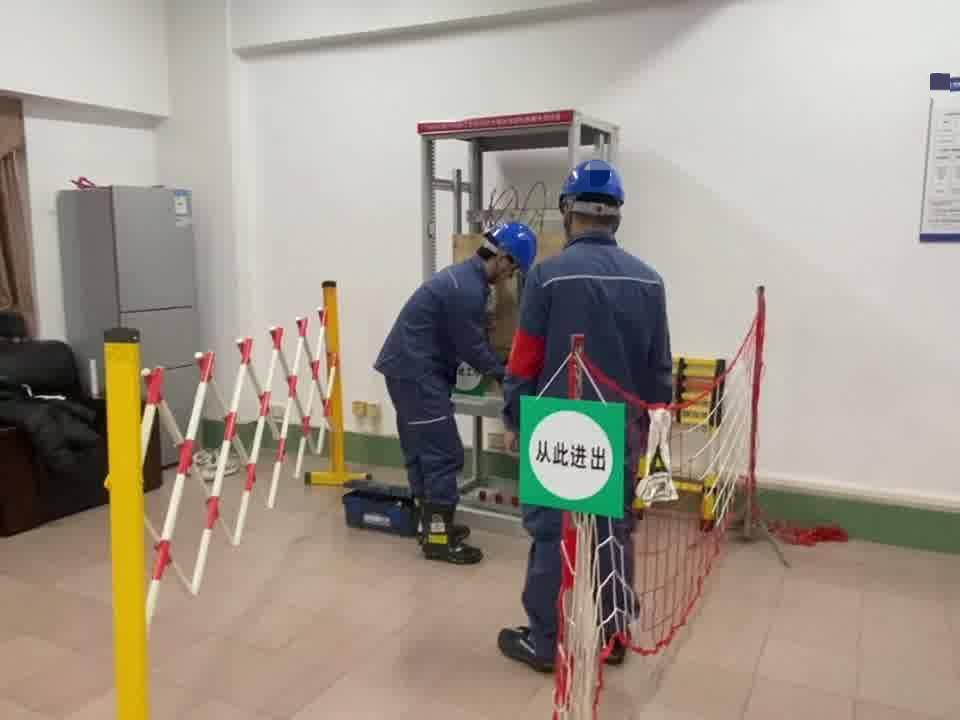halt: (558, 161, 632, 240), (490, 224, 541, 281)
inear: (491, 252, 519, 284)
